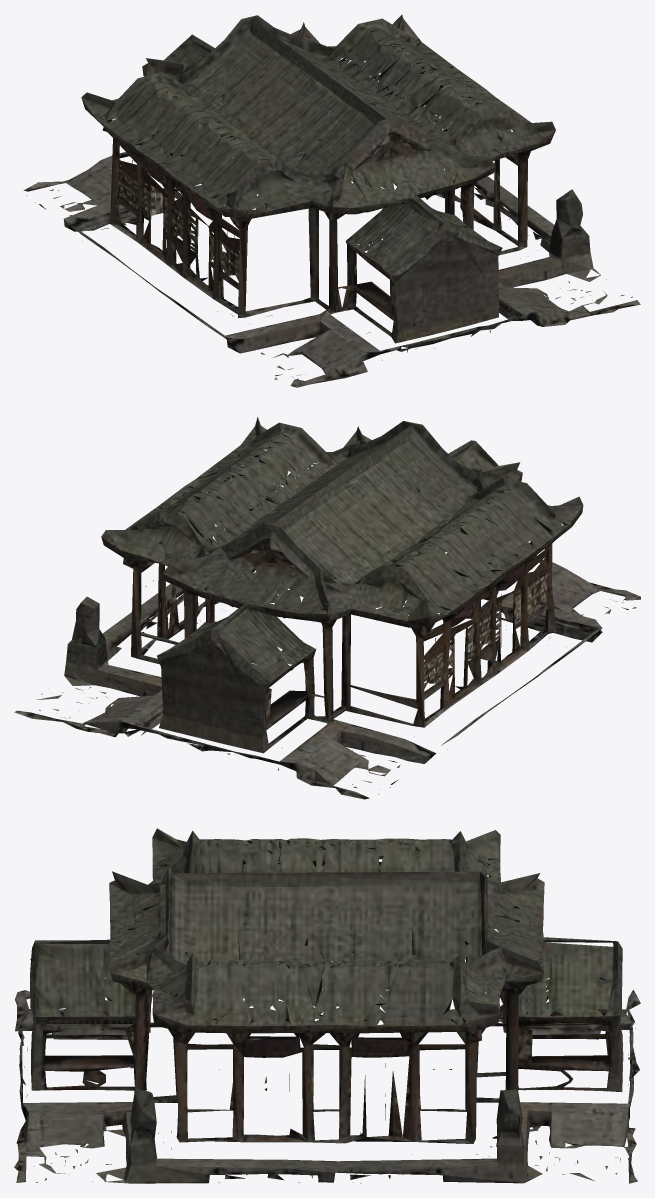
File: cn_house.glb
The picture shows the model from 3 angles, top to bottom: view 1: azimuth 30°, elevation 25°; view 2: azimuth 150°, elevation 25°; view 3: azimuth 270°, elevation 25°; orthographic projection. The views are drawn at different scales.
Visible parts, largest first — view 1: cn_house; view 2: cn_house; view 3: cn_house.
Boxes of the visible parts, <box> form: cn_house: <box>23,14,640,387</box>; cn_house: <box>14,417,640,799</box>; cn_house: <box>14,828,640,1183</box>.
Bounding box in the file's own units: 11.39 × 5.53 × 14.9.
Materials: 1 (1 with a texture image).
